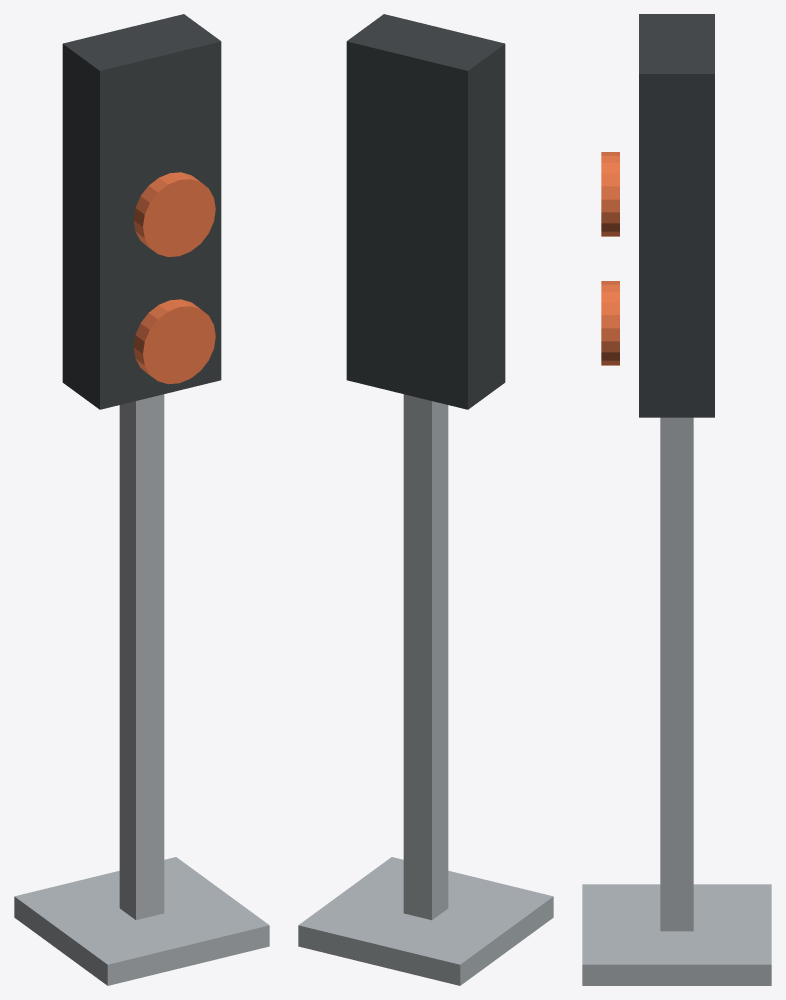
The model's file is endurance-and-gt-paddock-pit-entry-light-c0bf5335__14894.glb.
3 renders of one model, left to right at view 1: azimuth 30°, elevation 25°; view 2: azimuth 150°, elevation 25°; view 3: azimuth 270°, elevation 25°, orthographic.
Visible parts, largest first — view 1: pit-entry-light; view 2: pit-entry-light; view 3: pit-entry-light.
Part boxes in pixels (x1,y1,x2,y2): pit-entry-light: (14,14,269,985); pit-entry-light: (298,14,553,985); pit-entry-light: (582,14,771,985).
Bounding box in the file's own units: 0.3999 × 2.1 × 0.3999.
